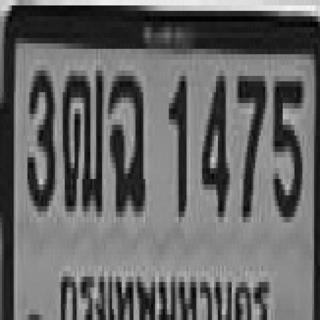A09: (108, 70, 143, 212)
A18: (61, 62, 102, 209)
N01: (167, 70, 185, 212)
N03: (26, 65, 53, 206)
N04: (200, 70, 228, 212)
N05: (271, 76, 300, 217)
N07: (235, 70, 265, 217)
